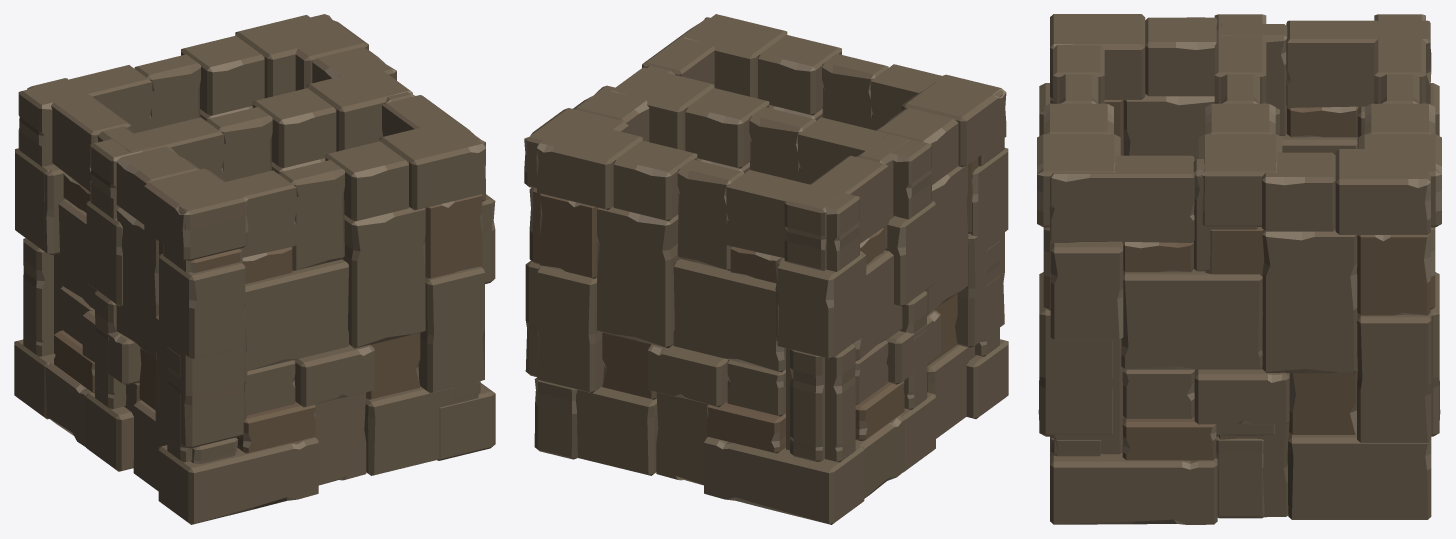
File: Wall Modular.glb
3 renders of one model, left to right at view 1: azimuth 30°, elevation 25°; view 2: azimuth 150°, elevation 25°; view 3: azimuth 270°, elevation 25°, orthographic. The views are drawn at different scales.
Parts seen in each view (by area): view 1: Wall_Modular.003, Wall_Modular.004, Wall_Modular, Wall_Modular.002, Wall_Modular.001; view 2: Wall_Modular.002, Wall_Modular.004, Wall_Modular, Wall_Modular.003, Wall_Modular.001; view 3: Wall_Modular.001, Wall_Modular.004, Wall_Modular, Wall_Modular.003, Wall_Modular.002.
Part boxes in pixels (<box>): Wall_Modular.003: <box>158,120,485,524</box>; Wall_Modular.004: <box>23,78,248,491</box>; Wall_Modular: <box>86,67,412,471</box>; Wall_Modular.002: <box>14,15,317,419</box>; Wall_Modular.001: <box>288,14,495,460</box>; Wall_Modular.002: <box>536,125,864,524</box>; Wall_Modular.004: <box>775,74,1006,498</box>; Wall_Modular: <box>611,67,935,472</box>; Wall_Modular.003: <box>683,14,1008,418</box>; Wall_Modular.001: <box>524,17,714,459</box>; Wall_Modular.001: <box>1049,149,1431,524</box>; Wall_Modular.004: <box>1050,14,1431,160</box>; Wall_Modular: <box>1198,14,1282,518</box>; Wall_Modular.003: <box>1037,45,1120,456</box>; Wall_Modular.002: <box>1358,14,1441,436</box>.
Bounding box in the file's own units: 2.11 × 2.01 × 2.12.
